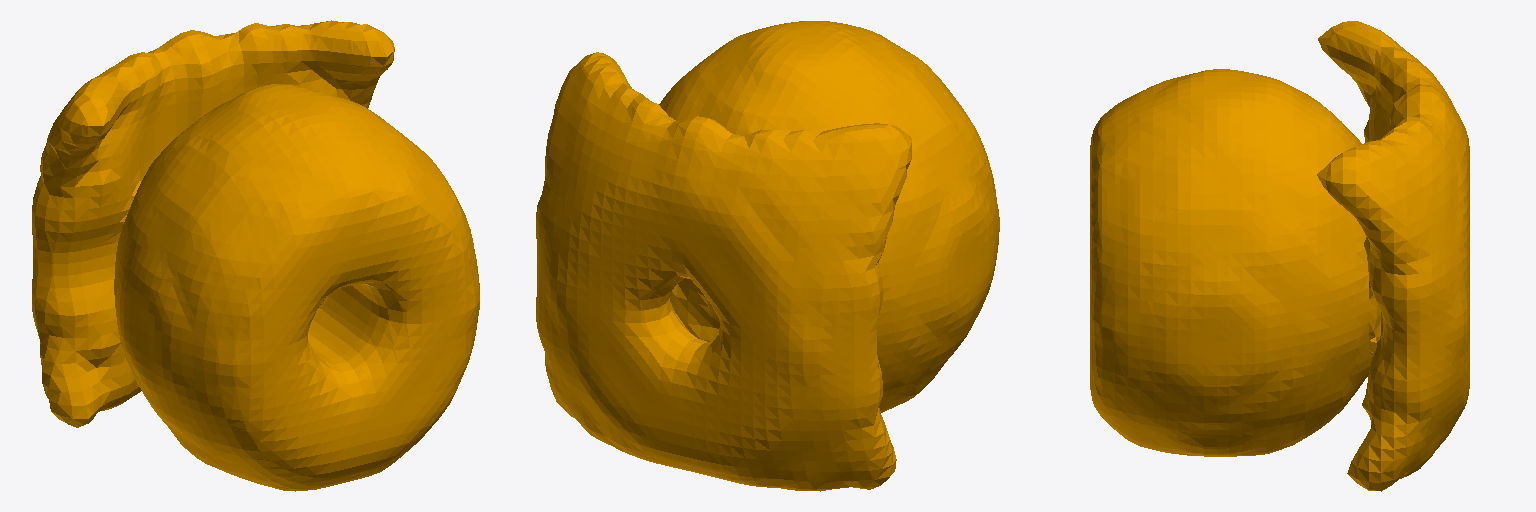
robot.urdf — H10_0:
<?xml version="1.0"?>
<robot name="H10_0">
  <link name="base_link">
    <visual>
      <geometry>
        <mesh filename="../../../../meshes/egad/train/H10_0.obj" />
      </geometry>
    </visual>
  </link>
</robot>

--- Facts derived from the render (not from the file) ---
3 views of the same robot in one strip: view 1: azimuth 30°, elevation 25°; view 2: azimuth 150°, elevation 25°; view 3: azimuth 270°, elevation 25° (orthographic).
Model H10_0 with 1 links and 0 joints (none), rooted at base_link, posed all joints at 0.
Links seen in each view (by area): view 1: base_link; view 2: base_link; view 3: base_link.
Link boxes in pixels (x1,y1,x2,y2): base_link: (32,20,479,491); base_link: (536,21,999,491); base_link: (1090,21,1469,491).
Bounding box of the posed robot: 0.06 × 0.0611 × 0.0611 m (x, y, z).
1 mesh visuals loaded from 1 distinct referenced files (1 OBJ).